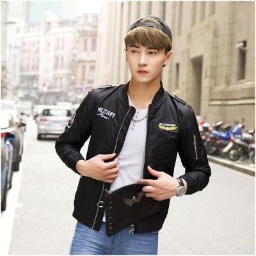face: (122, 24, 176, 86)
